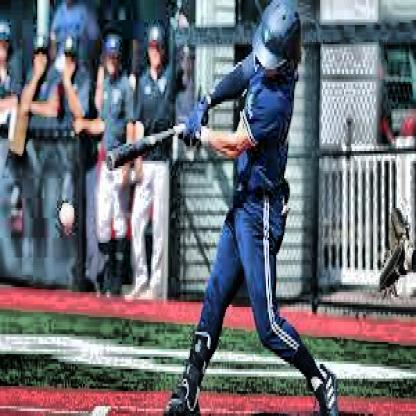baseball: (61, 202, 74, 226)
